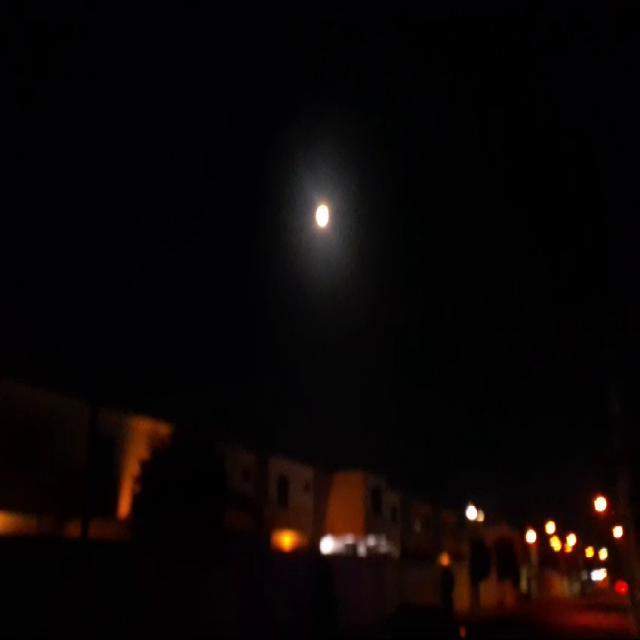moon: (310, 199, 333, 233)
